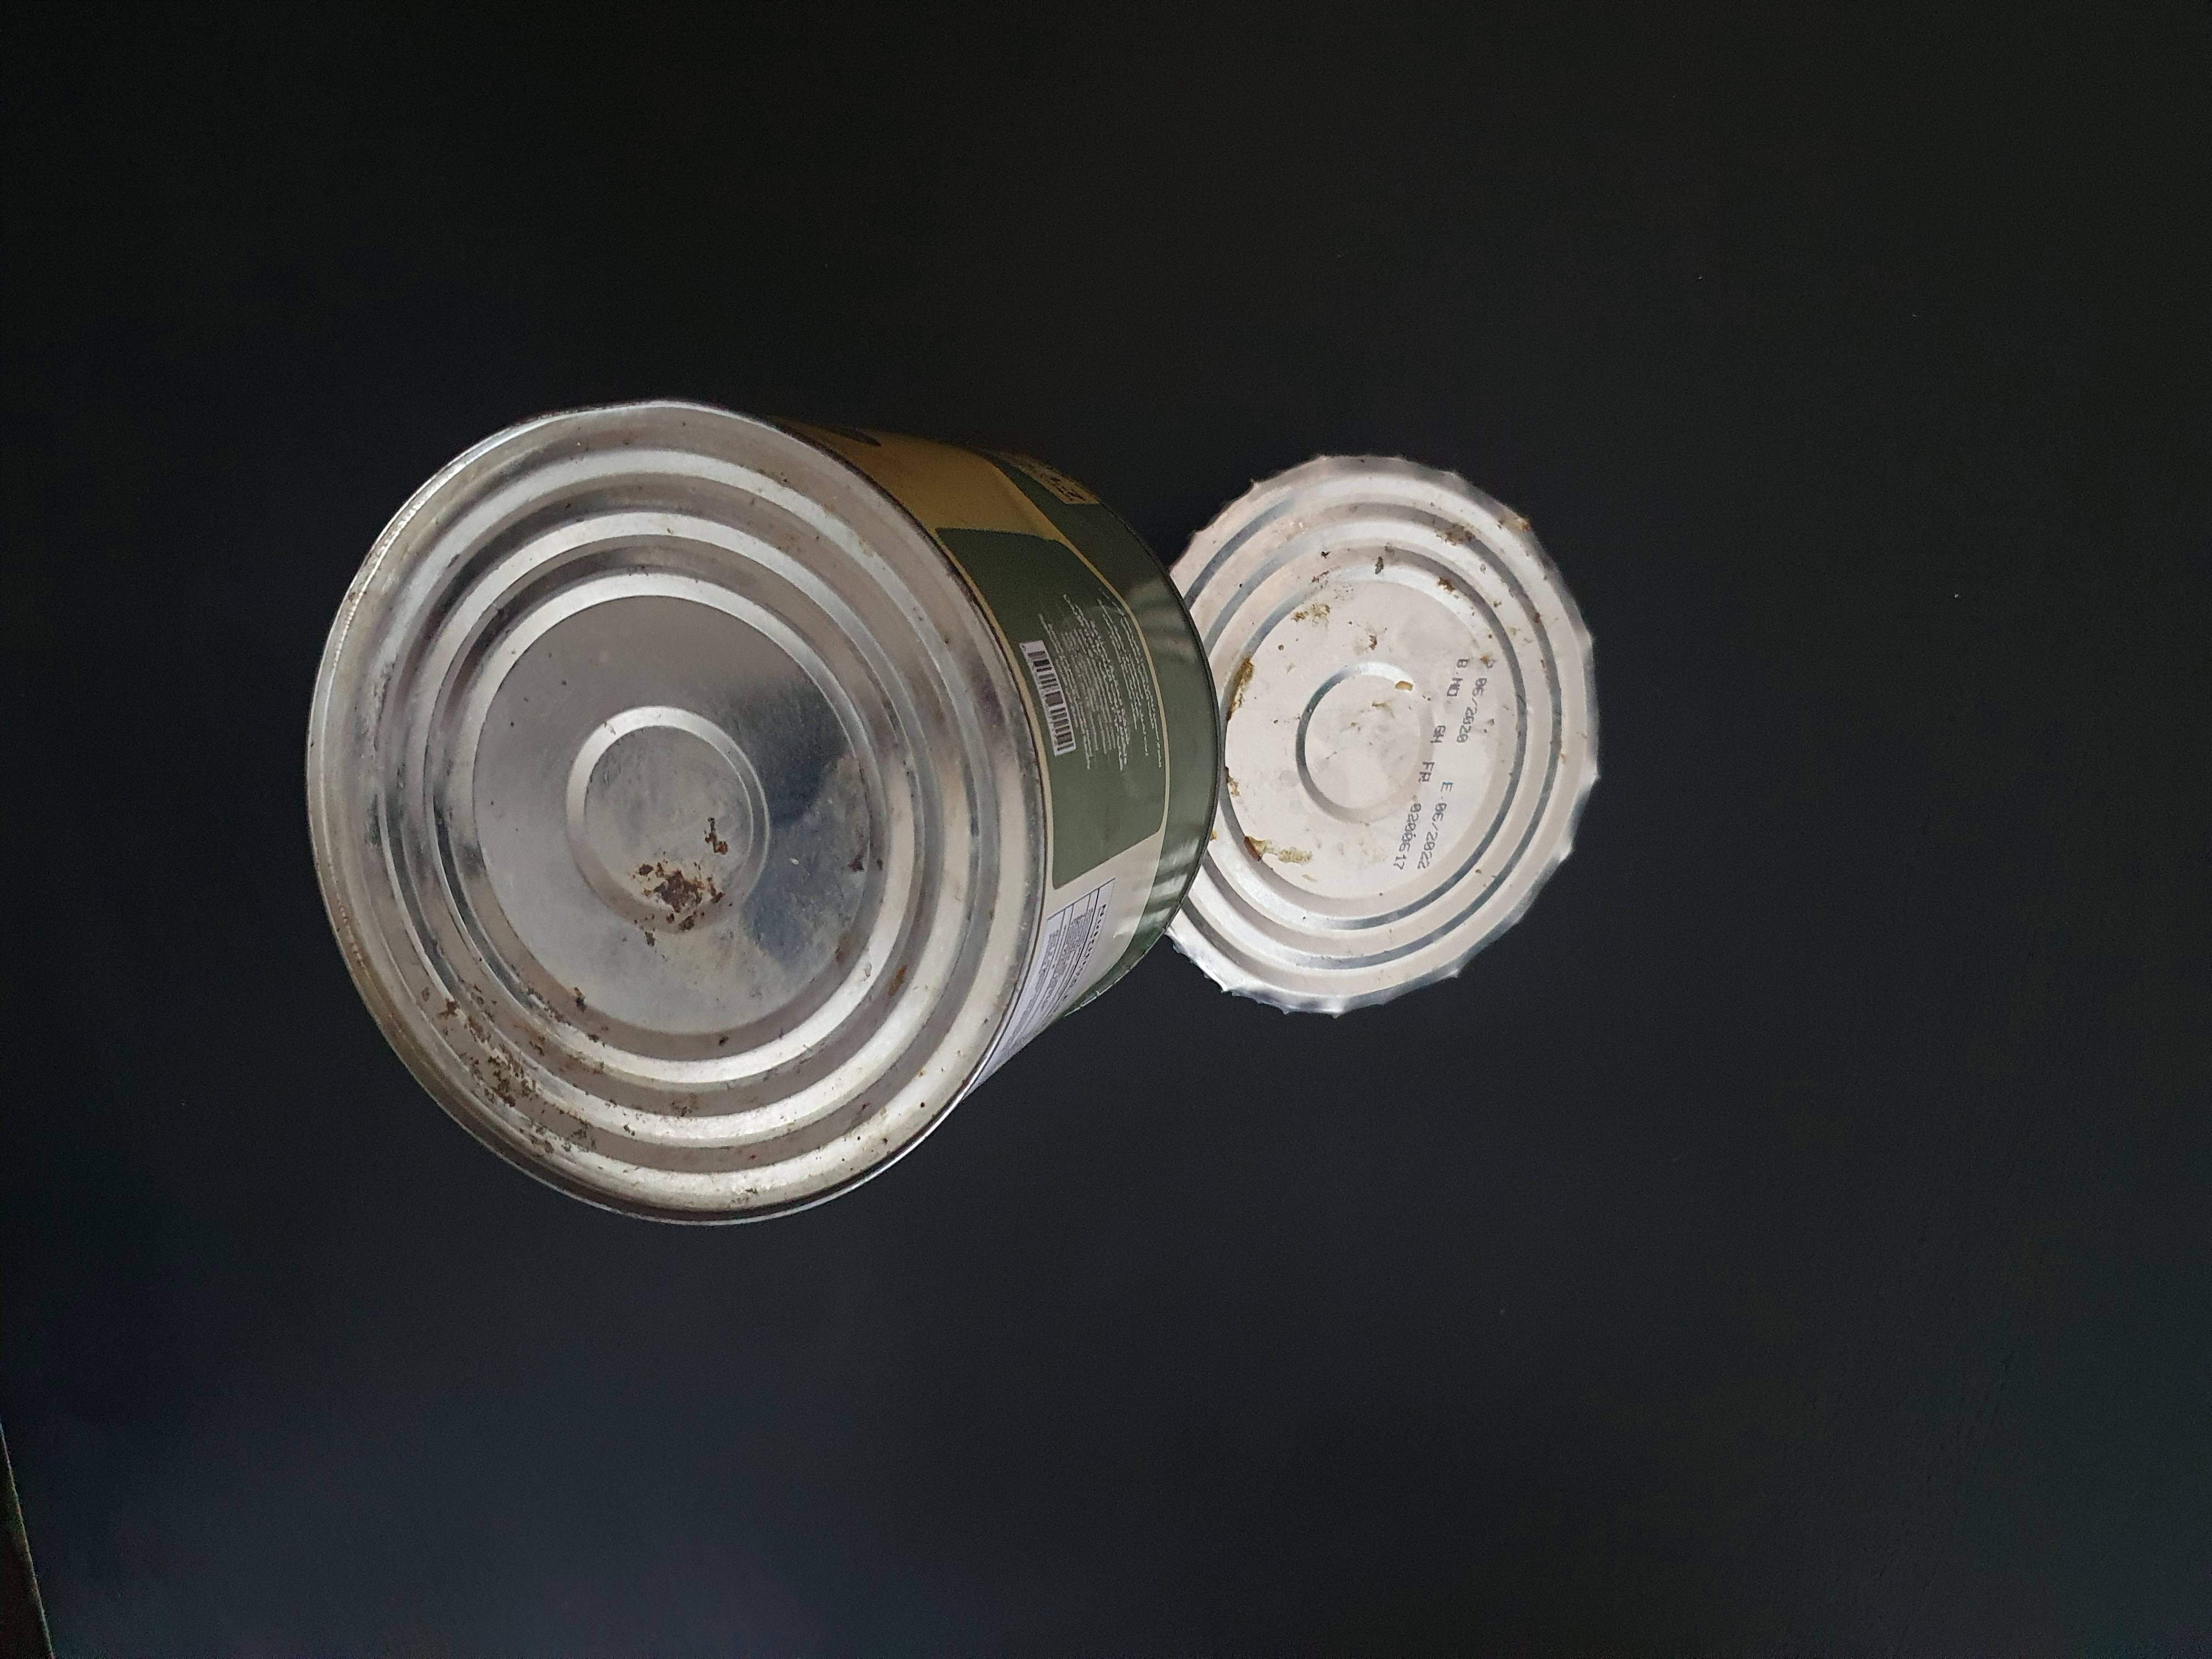metal: (294, 317, 1648, 1283)
